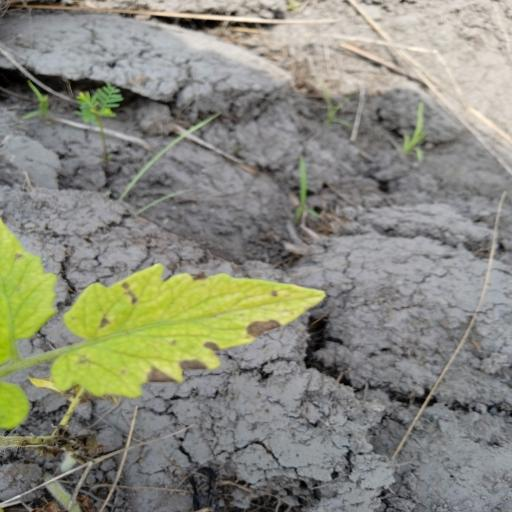Tomato_Brown_Spots: (45, 260, 334, 408)
